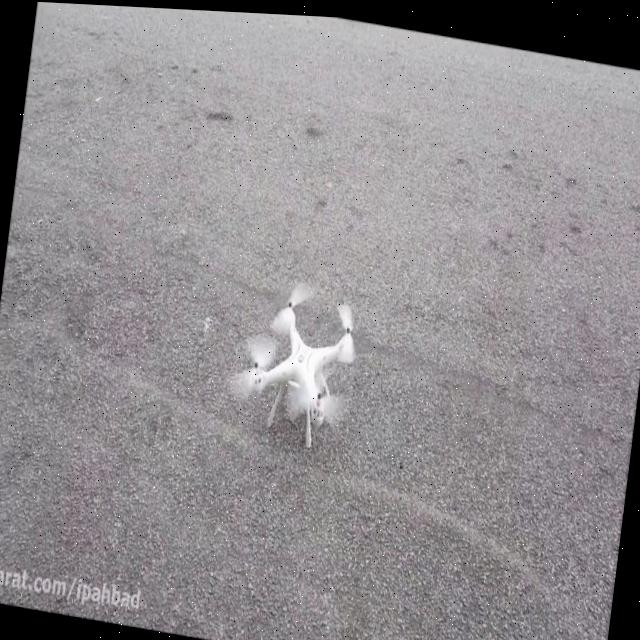drone: (223, 267, 364, 447)
